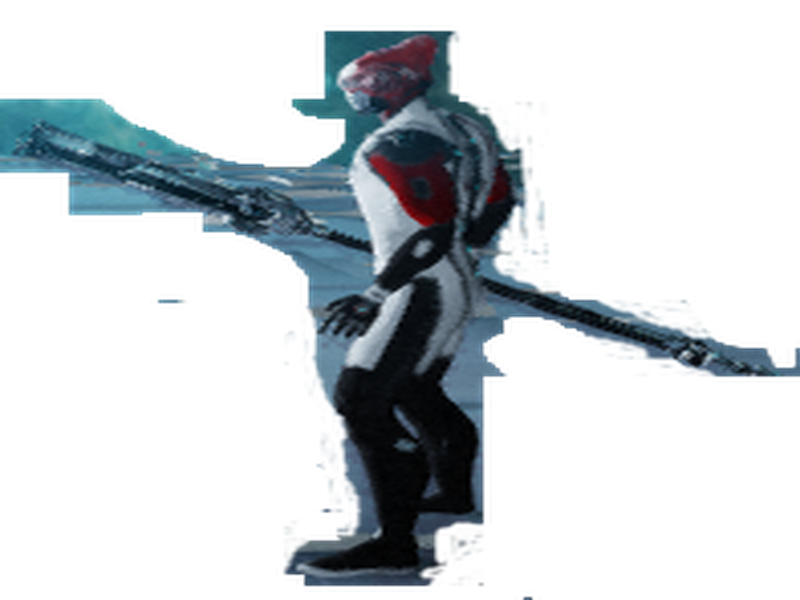corpus: (11, 29, 792, 591)
